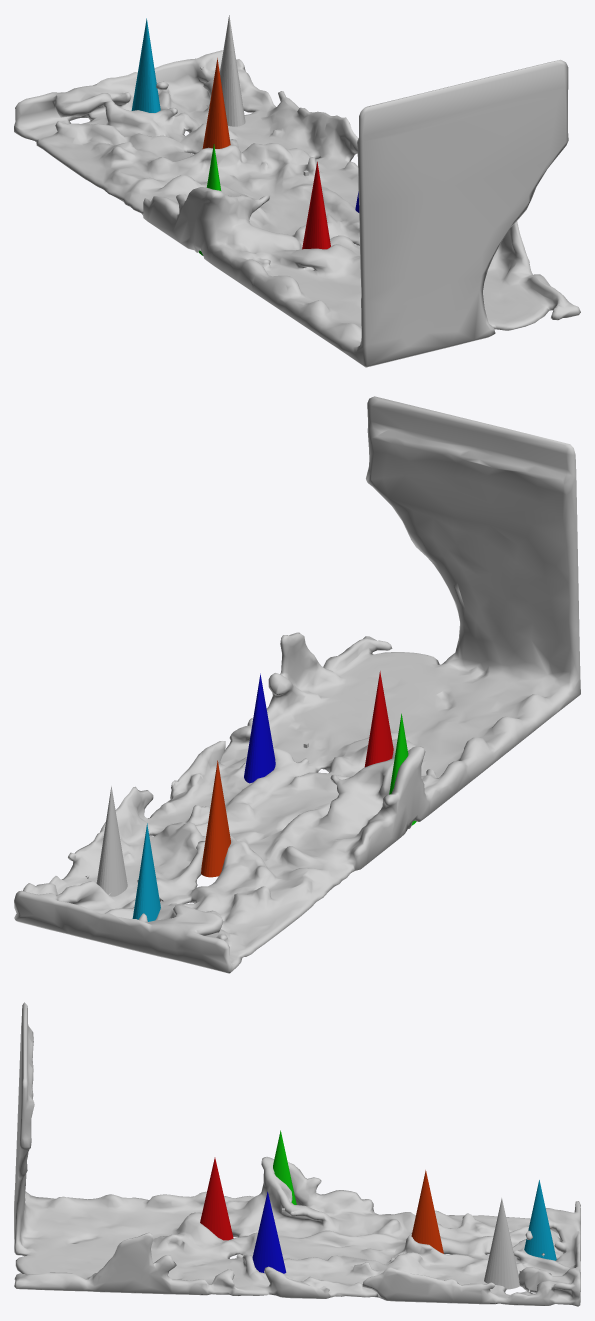
The picture shows the model from 3 angles, top to bottom: view 1: azimuth 30°, elevation 25°; view 2: azimuth 150°, elevation 25°; view 3: azimuth 270°, elevation 25°; orthographic projection. The views are drawn at different scales.
Parts seen in each view (by area): view 1: Liquid_Domain, 円錐, 円錐.005, 円錐.001, 円錐.004; view 2: Liquid_Domain, 円錐.004, 円錐.002, 円錐, 円錐.005, 円錐.001; view 3: Liquid_Domain, 円錐, 円錐.002, 円錐.001, 円錐.005, 円錐.004, 円錐.003.
Part boxes in pixels (x1,y1,x2,y2): Liquid_Domain: [14, 50, 580, 367]; 円錐: [219, 15, 245, 126]; 円錐.005: [131, 18, 160, 112]; 円錐.001: [302, 161, 330, 249]; 円錐.004: [202, 58, 230, 148]; Liquid_Domain: [14, 396, 580, 973]; 円錐.004: [201, 760, 230, 877]; 円錐.002: [244, 673, 275, 783]; 円錐: [96, 786, 127, 896]; 円錐.005: [132, 823, 160, 921]; 円錐.001: [364, 671, 393, 767]; Liquid_Domain: [14, 1002, 580, 1306]; 円錐: [484, 1198, 519, 1289]; 円錐.002: [252, 1191, 286, 1273]; 円錐.001: [200, 1157, 233, 1240]; 円錐.005: [524, 1180, 556, 1260]; 円錐.004: [411, 1170, 443, 1253]; 円錐.003: [273, 1130, 296, 1204].
Bounding box in the file's own units: 129 × 157 × 361.
